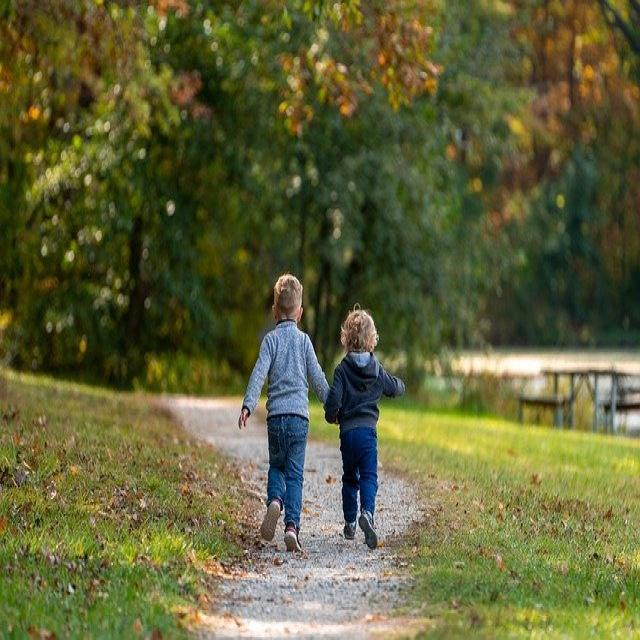child: (239, 275, 340, 551), (324, 303, 407, 551)
